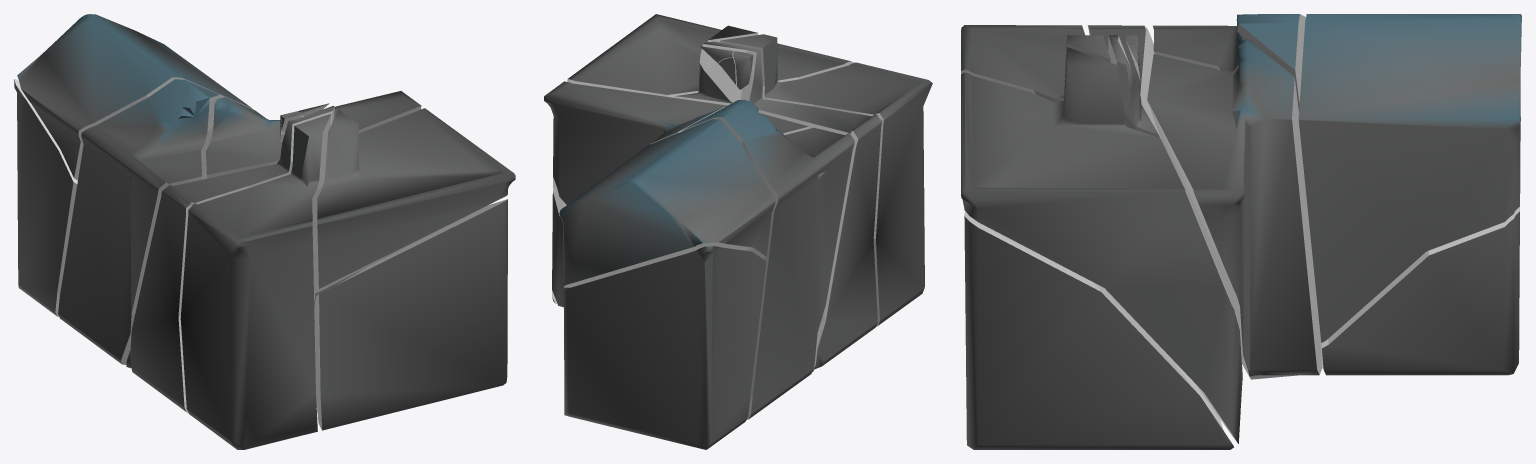
Rendered from Apartment Buildings(2).glb.
3 renders of one model, left to right at view 1: azimuth 30°, elevation 25°; view 2: azimuth 150°, elevation 25°; view 3: azimuth 270°, elevation 25°, orthographic. The views are drawn at different scales.
Visible parts, largest first — view 1: Root, Root.009, Root.004, Root.003, Root.007, Root.006, Root.001, Root.010; view 2: Root.001, Root.007, Root.004, Root, Root.006, Root.010, Root.003, Root.002; view 3: Root.007, Root.003, Root.009, Root.010, Root.001, Root, Root.004, Root.006.
Boxes of the visible parts, left/top/right/bottom form: Root: left=180, top=114, right=331, bottom=449; Root.009: left=314, top=199, right=507, bottom=430; Root.004: left=58, top=79, right=219, bottom=364; Root.003: left=314, top=108, right=515, bottom=305; Root.007: left=17, top=14, right=252, bottom=180; Root.006: left=126, top=105, right=334, bottom=413; Root.001: left=14, top=79, right=77, bottom=316; Root.010: left=204, top=91, right=421, bottom=178; Root.001: left=563, top=246, right=766, bottom=449; Root.007: left=559, top=119, right=775, bottom=287; Root.004: left=682, top=100, right=854, bottom=419; Root: left=720, top=34, right=932, bottom=326; Root.006: left=674, top=41, right=881, bottom=371; Root.010: left=544, top=81, right=808, bottom=204; Root.003: left=552, top=14, right=853, bottom=307; Root.002: left=732, top=54, right=750, bottom=89; Root.007: left=1298, top=14, right=1521, bottom=342; Root.003: left=961, top=47, right=1240, bottom=443; Root.009: left=964, top=210, right=1233, bottom=449; Root.010: left=1147, top=32, right=1323, bottom=379; Root.001: left=1321, top=207, right=1519, bottom=375; Root: left=961, top=25, right=1110, bottom=101; Root.004: left=1153, top=14, right=1305, bottom=110; Root.006: left=1088, top=25, right=1242, bottom=402.
Size of the model in its own units: 15.36 by 13.71 by 21.7.
